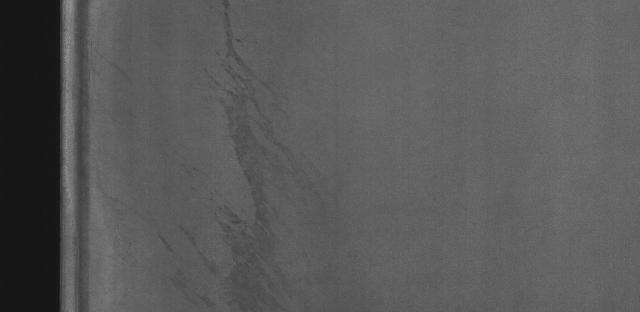water_spot: (180, 1, 302, 307)
